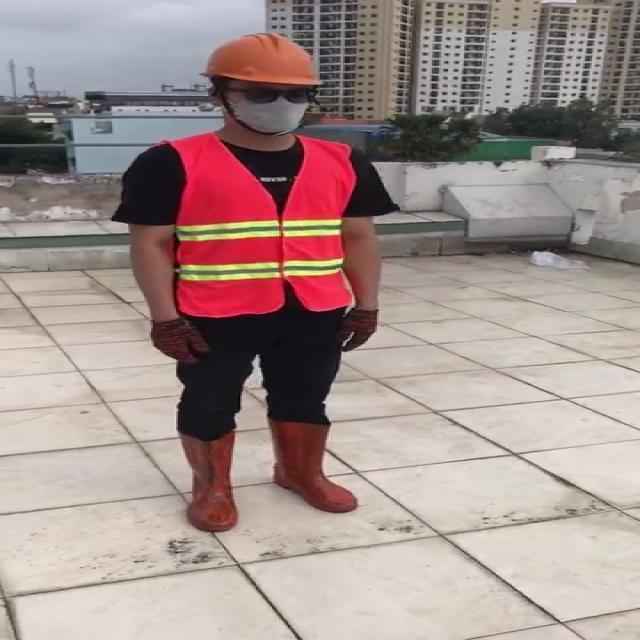gloves: (149, 316, 210, 365), (329, 308, 377, 355)
goggles: (212, 86, 318, 105)
helmet: (197, 33, 329, 86)
safety_vest: (174, 136, 354, 315)
